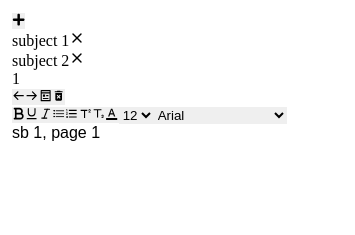
<Notebook /> › Should add a new subject
Expected: the field with test id "editable" reads "sb 1, page 1", [12,124,100,141]
Click the button with test id "add-subject" at (19, 21), box [12,13,25,29]
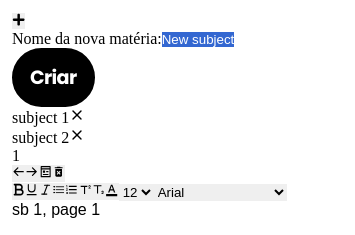
Type keys "{Control>}[KeyA]{/Control}{Backspace}"
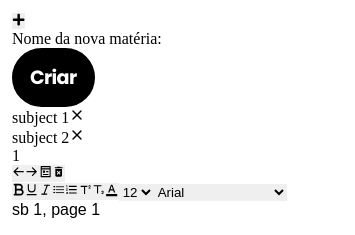
Type "New Subject" into the field with test id "new-name-input" at (250, 40), box [162,32,339,47]
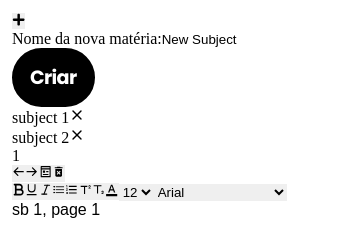
Click the button with test id "new-subject-submit" at (53, 77), box [12,48,94,107]
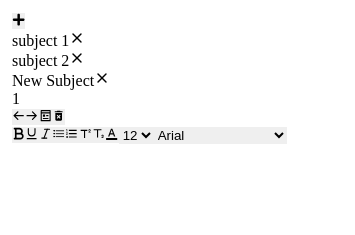
Expected: the element showing "New Subject" is shown, [12,70,110,89]
